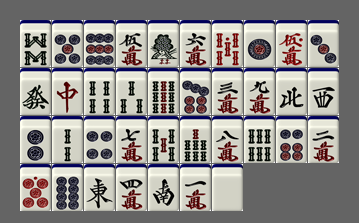0m: (276, 20, 307, 67)
0p: (20, 164, 51, 211)
0s: (212, 20, 243, 67)
1m: (180, 164, 211, 211)
1p: (244, 20, 275, 67)
1s: (148, 20, 179, 67)
1z: (84, 164, 115, 211)
2m: (308, 116, 339, 163)
2p: (20, 116, 51, 163)
2s: (52, 116, 83, 163)
2z: (148, 164, 179, 211)
3m: (212, 68, 243, 115)
3p: (308, 20, 339, 67)
3s: (116, 68, 147, 115)
3z: (308, 68, 339, 115)
4m: (116, 164, 147, 211)
4p: (84, 116, 115, 163)
4s: (84, 68, 115, 115)
4z: (276, 68, 307, 115)
5m: (116, 20, 147, 67)
5p: (52, 20, 83, 67)
5s: (148, 116, 179, 163)
5z: (212, 164, 243, 211)
6m: (180, 20, 211, 67)
6p: (276, 116, 307, 163)
6s: (244, 116, 275, 163)
6z: (20, 68, 51, 115)
7m: (116, 116, 147, 163)
7p: (180, 68, 211, 115)
7s: (180, 116, 211, 163)
7z: (52, 68, 83, 115)
8m: (212, 116, 243, 163)
8p: (52, 164, 83, 211)
8s: (20, 20, 51, 67)
9m: (244, 68, 275, 115)
9p: (84, 20, 115, 67)
9s: (148, 68, 179, 115)
